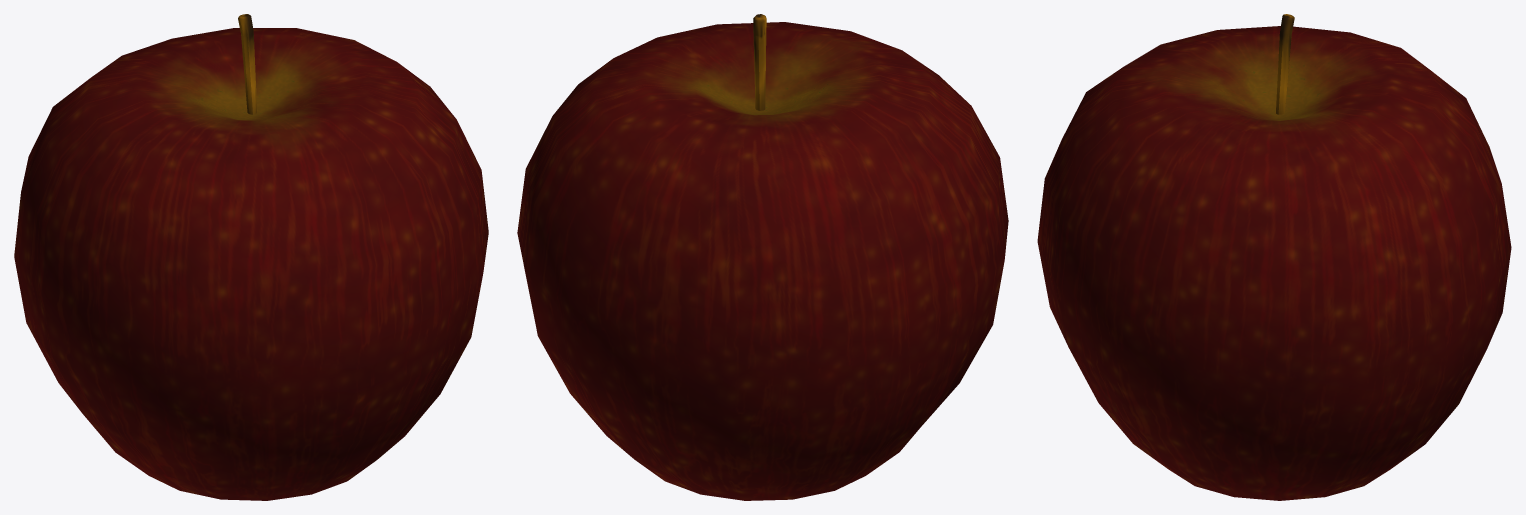
Rendered from apple.obj.
The picture shows the model from 3 angles, left to right: view 1: azimuth 30°, elevation 25°; view 2: azimuth 150°, elevation 25°; view 3: azimuth 270°, elevation 25°; orthographic projection.
Visible parts, largest first — view 1: Apple_Cut_Low.001; view 2: Apple_Cut_Low.001; view 3: Apple_Cut_Low.001.
Part boxes in pixels (x1,y1,x2,y2): Apple_Cut_Low.001: (14,14,488,500); Apple_Cut_Low.001: (517,14,1008,500); Apple_Cut_Low.001: (1037,14,1511,500).
Size of the model in its own units: 2.2 by 2.27 by 2.18.
Materials: 1 (1 with a texture image).
